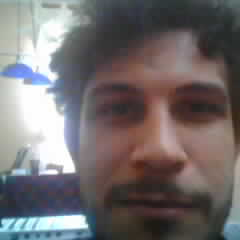without_mask: (82, 33, 232, 239)
